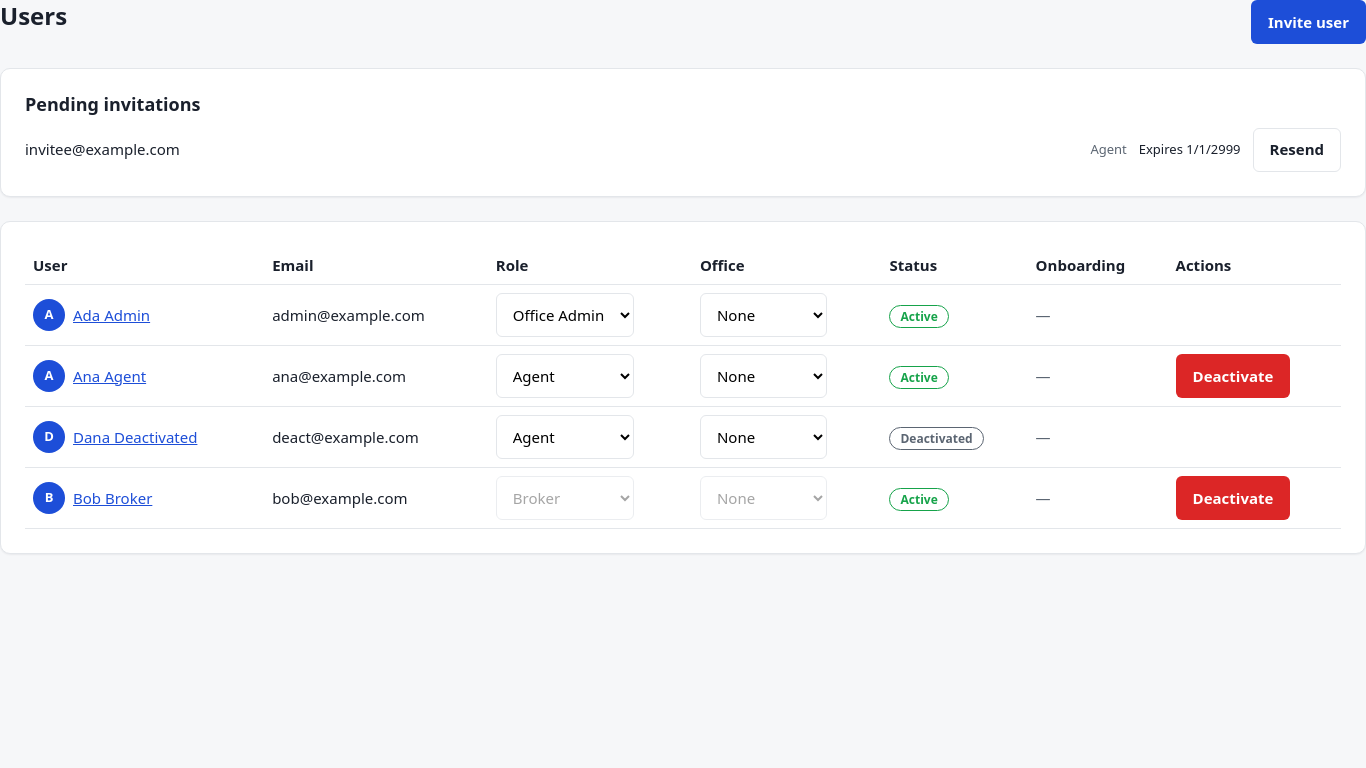
UsersPage › keeps the email-not-sent warning visible after the invite modal closes
Click the button "Invite user".
click(1308, 22)  # box x1=1251 y1=0 x2=1365 y2=44
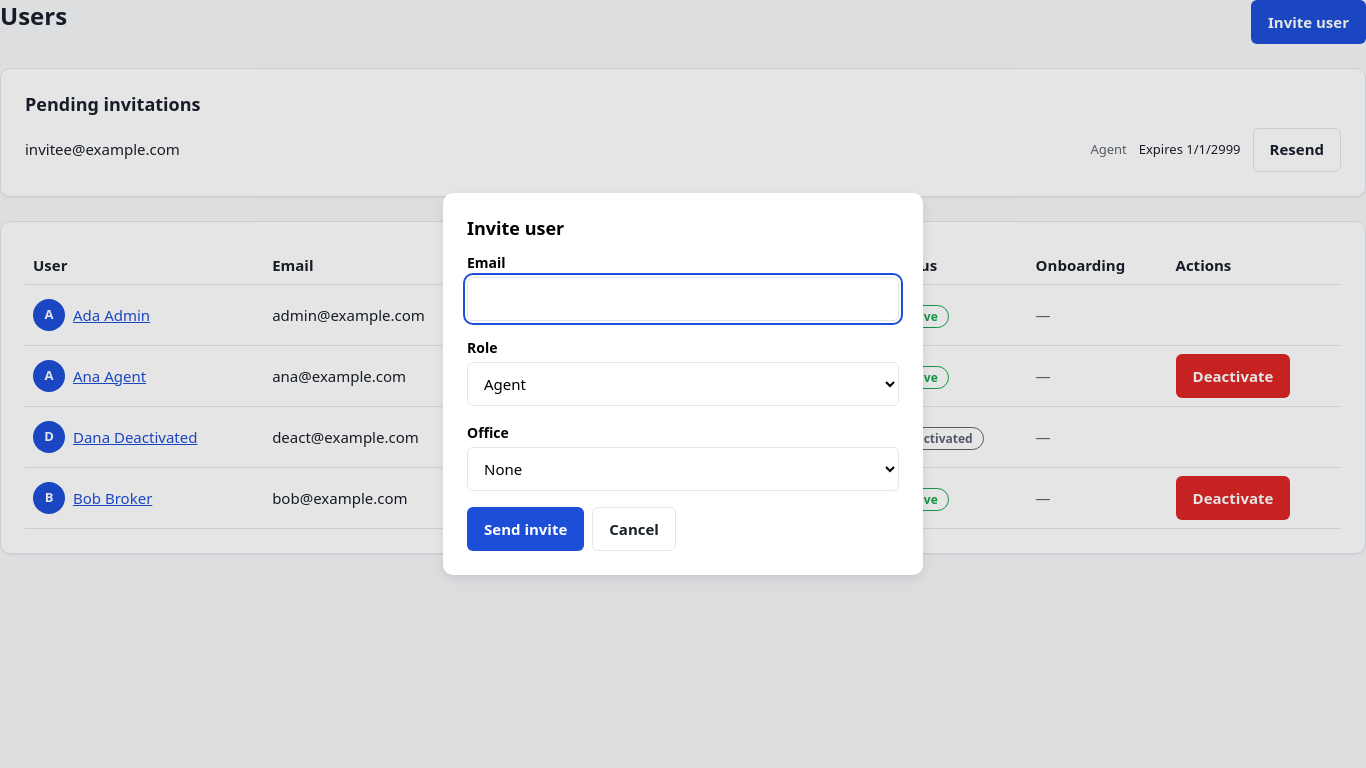
Type "new@example.com" into the field labelled "Email".
click(683, 299); type("new@example.com")  # box x1=467 y1=277 x2=899 y2=321
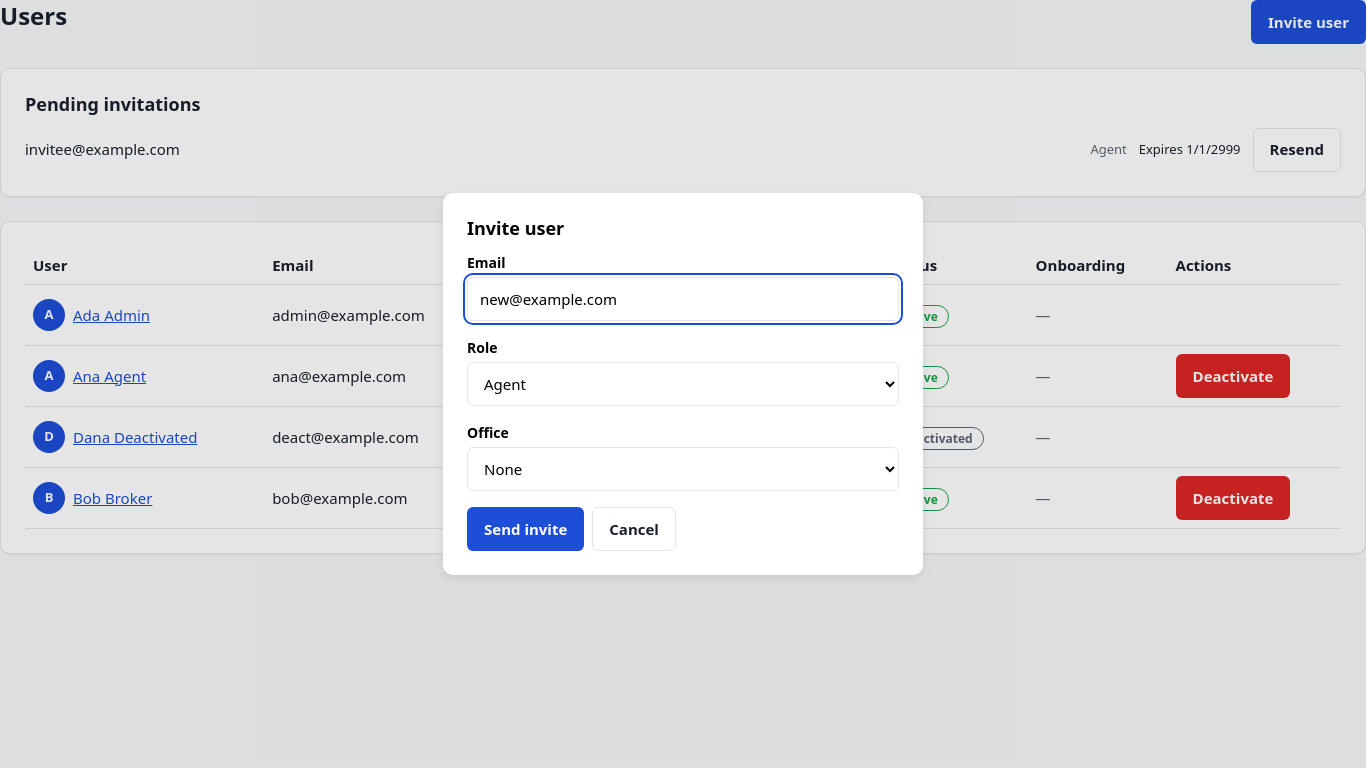
Click the button "Send invite".
click(526, 529)  # box x1=467 y1=507 x2=584 y2=551
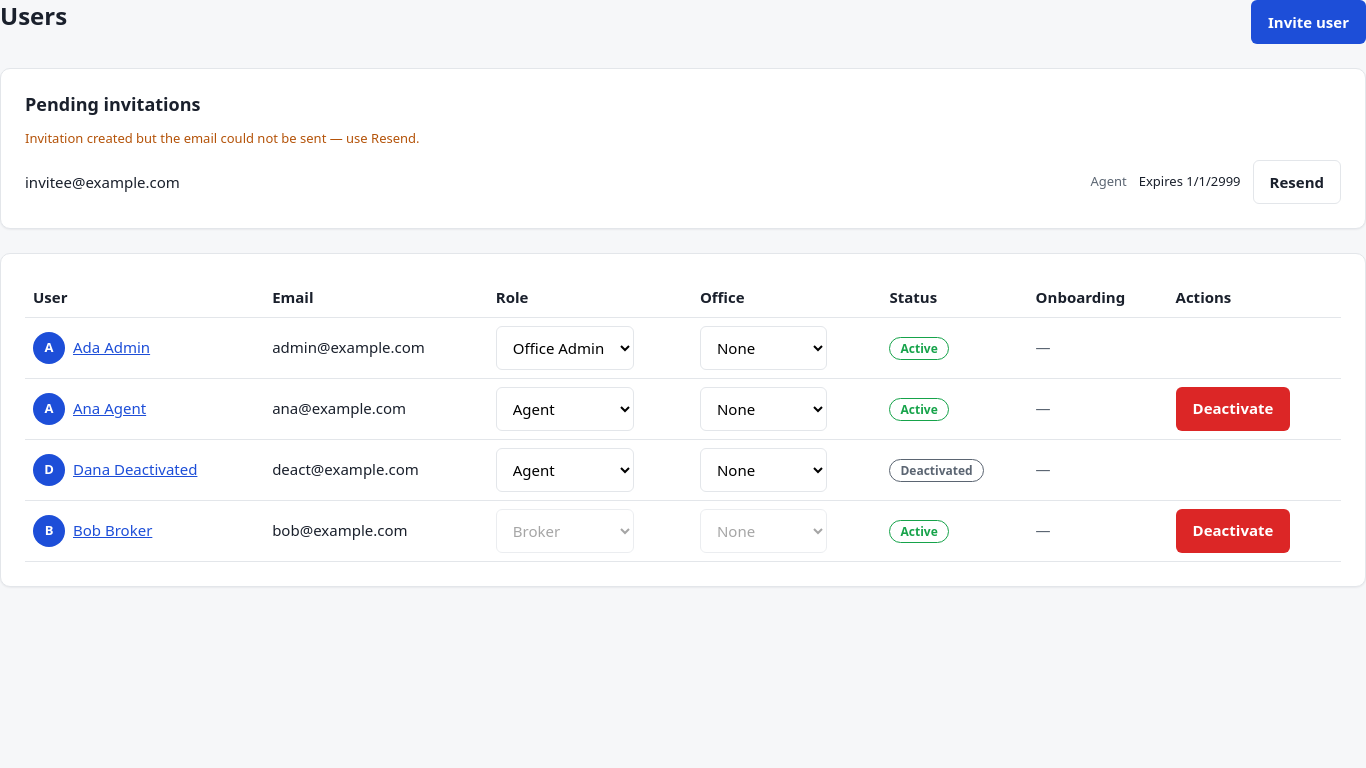
Expected: the message reads "Invitation created but the email could not be sent — use Resend.", x1=25 y1=128 x2=420 y2=146
